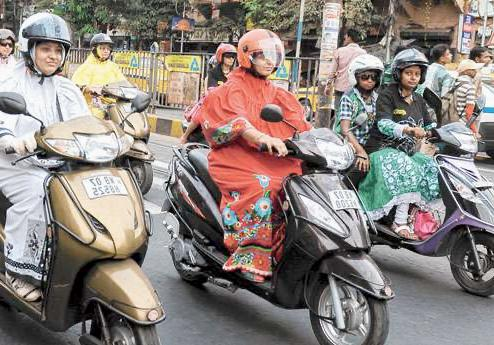With Helmet: (13, 9, 76, 83), (229, 24, 290, 81), (386, 45, 435, 92)
